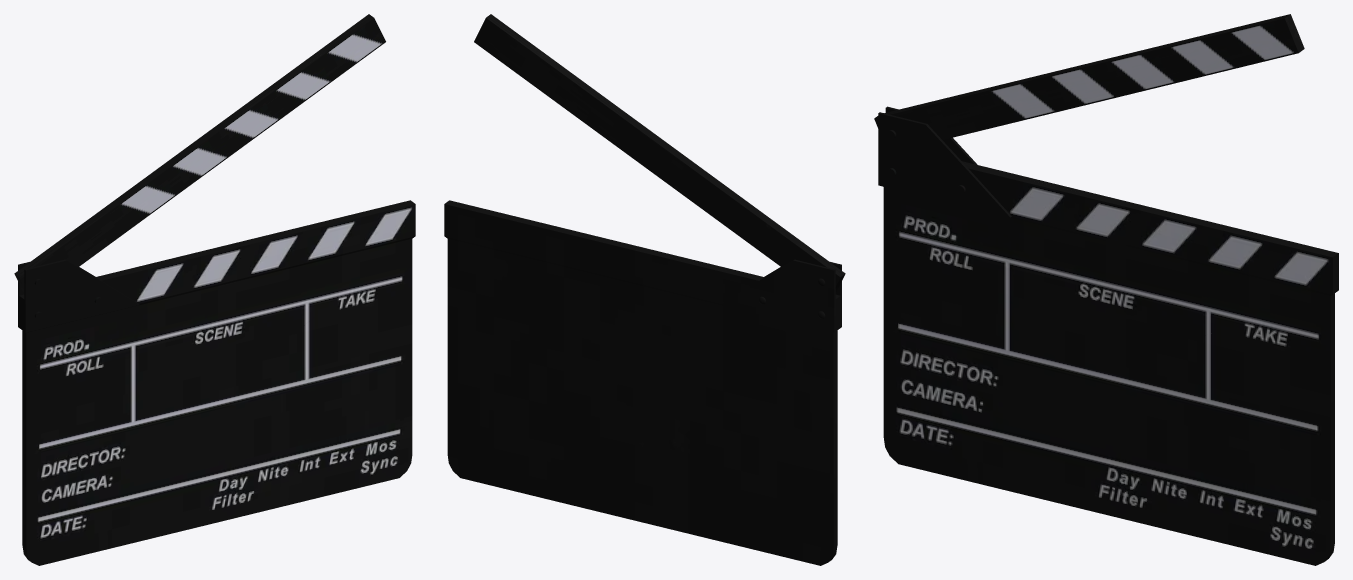
The model's file is clapperboard.glb.
3 renders of one model, left to right at view 1: azimuth 30°, elevation 25°; view 2: azimuth 150°, elevation 25°; view 3: azimuth 330°, elevation 25°, orthographic. The views are drawn at different scales.
Visible parts, largest first — view 1: Clapperboard_Clapperboard_0, ClapperboardFlap_ClapperboardFlap_0; view 2: Clapperboard_Clapperboard_0, ClapperboardFlap_ClapperboardFlap_0; view 3: Clapperboard_Clapperboard_0, ClapperboardFlap_ClapperboardFlap_0.
Part boxes in pixels (left/top/right/bottom): Clapperboard_Clapperboard_0: left=18, top=200, right=415, bottom=565; ClapperboardFlap_ClapperboardFlap_0: left=14, top=14, right=385, bottom=291; Clapperboard_Clapperboard_0: left=444, top=200, right=841, bottom=565; ClapperboardFlap_ClapperboardFlap_0: left=474, top=14, right=845, bottom=291; Clapperboard_Clapperboard_0: left=878, top=106, right=1338, bottom=565; ClapperboardFlap_ClapperboardFlap_0: left=874, top=14, right=1304, bottom=139.
Bounding box in the file's own units: 0.355 × 0.3999 × 0.0155.
2 materials, 2 textured.
